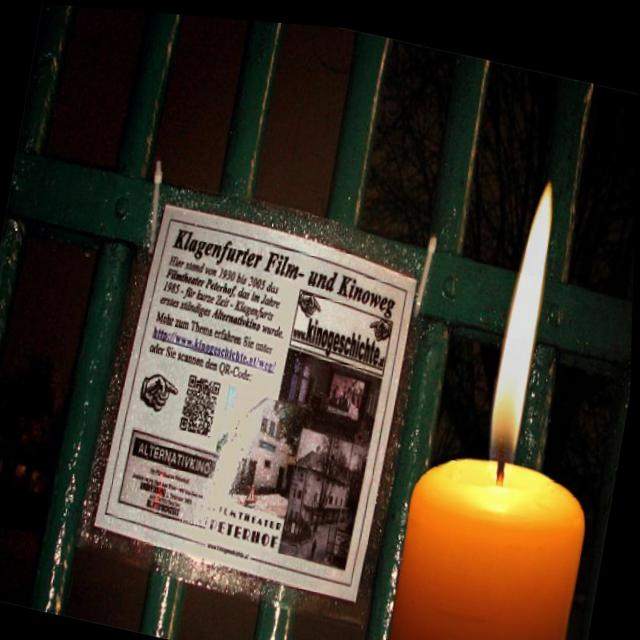qrcode: (183, 372, 224, 434)
